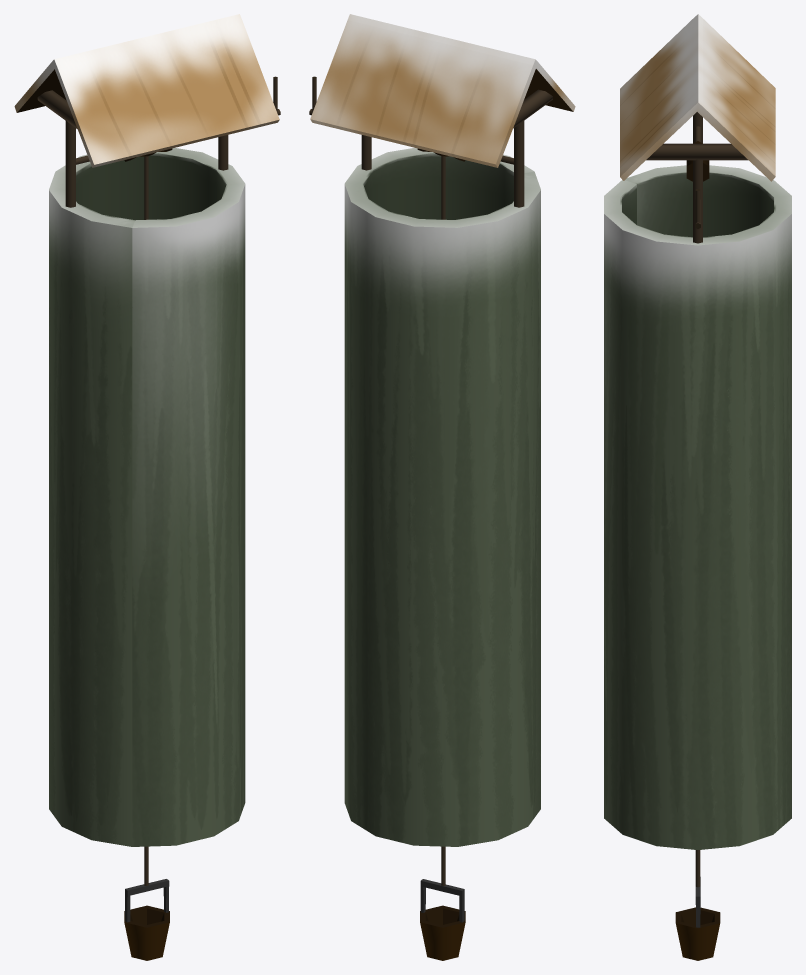
File: Well_TEX.FBX
3 renders of one model, left to right at view 1: azimuth 30°, elevation 25°; view 2: azimuth 150°, elevation 25°; view 3: azimuth 270°, elevation 25°, orthographic. The views are drawn at different scales.
Visible parts, largest first — view 1: Cylinder009; view 2: Cylinder009; view 3: Cylinder009.
Part boxes in pixels (x1=…): Cylinder009: x1=14, y1=14, x2=280, y2=960; Cylinder009: x1=309, y1=14, x2=575, y2=960; Cylinder009: x1=604, y1=14, x2=791, y2=960.
Bounding box in the file's own units: 45.3 × 177 × 33.56.
Materials: 1 (1 with a texture image).
